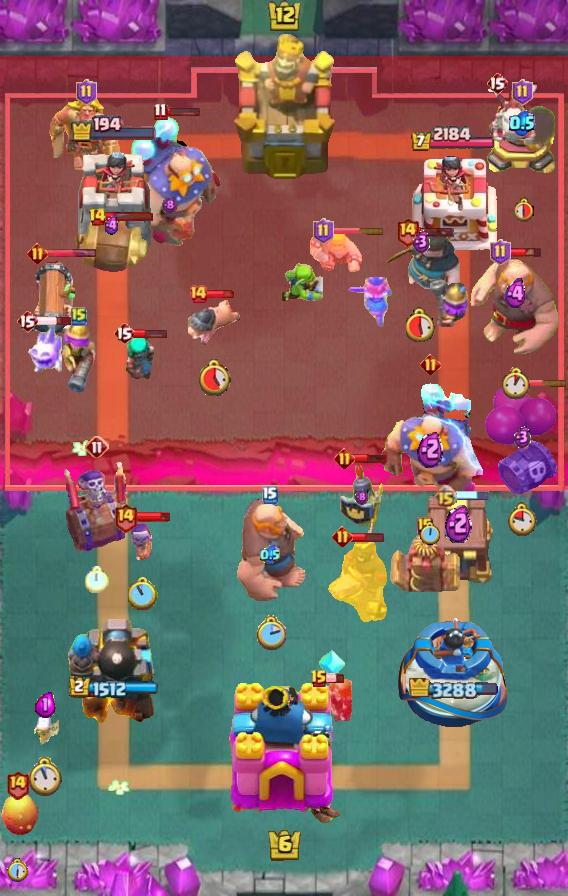archer: (309, 229, 365, 281)
balloon: (469, 257, 563, 357), (233, 495, 307, 603)
battle-healer: (29, 259, 79, 347)
bomb: (418, 492, 498, 586)
bomb-tower: (57, 322, 101, 394), (430, 265, 468, 327)
electro-spirit: (445, 501, 471, 542), (417, 430, 443, 468), (504, 278, 528, 310), (509, 110, 535, 136), (36, 690, 57, 717), (260, 545, 280, 565), (513, 426, 531, 448), (414, 230, 431, 253), (103, 217, 121, 235), (163, 196, 178, 214), (356, 489, 368, 505)
elixir: (196, 358, 232, 396), (28, 757, 62, 797), (500, 367, 532, 400), (406, 307, 436, 341), (255, 615, 285, 649), (128, 577, 158, 610), (508, 502, 536, 536), (85, 566, 109, 593), (510, 197, 533, 223), (6, 858, 28, 882), (419, 522, 440, 546)
emote: (45, 248, 97, 259), (104, 210, 154, 221), (331, 225, 385, 234), (514, 377, 568, 386), (418, 226, 455, 238), (35, 315, 72, 327), (454, 490, 490, 502), (135, 511, 171, 523), (167, 106, 202, 118), (508, 246, 543, 258), (350, 531, 385, 543), (352, 453, 388, 464), (133, 329, 168, 340), (205, 289, 237, 299), (326, 672, 345, 683)
executioner: (188, 298, 240, 348)
freeze: (325, 536, 391, 622)
goblin: (127, 522, 159, 564)
goblin-brawler: (390, 527, 460, 595)
goblin-hut: (48, 93, 124, 175)
heal-spirit: (31, 714, 59, 748)
hog: (0, 793, 40, 837)
hog-rider: (346, 275, 394, 329), (309, 678, 355, 724)
king-tower: (222, 680, 346, 826), (231, 35, 337, 182)
little-prince: (115, 115, 223, 249), (377, 377, 483, 505)
mini-pekka: (482, 82, 542, 148)
mirror: (25, 324, 65, 376)
pad_2: (317, 649, 347, 679)
princess: (336, 463, 386, 547)
queen-tower: (395, 614, 514, 730), (406, 152, 500, 256), (71, 144, 157, 255)
royal-hog: (381, 228, 461, 300)
royal-recruit: (486, 104, 558, 178)
royal-recruit-evolution: (483, 382, 561, 498)
selected: (70, 115, 158, 143), (410, 126, 496, 154), (68, 676, 159, 700), (410, 678, 499, 702)
skeleton-king-bar: (64, 457, 130, 551)
text: (396, 217, 421, 248), (5, 769, 30, 799), (114, 503, 138, 533), (85, 435, 109, 459), (511, 79, 532, 105), (75, 79, 96, 105), (314, 218, 335, 244), (490, 239, 511, 265), (434, 484, 457, 507), (486, 71, 508, 95), (16, 309, 38, 333), (113, 321, 135, 345), (27, 243, 48, 265), (419, 353, 440, 375), (334, 448, 355, 469), (332, 525, 353, 546), (188, 284, 208, 304), (88, 207, 107, 227), (310, 669, 328, 689), (71, 306, 87, 326), (262, 486, 278, 504), (417, 517, 433, 535), (153, 103, 167, 121)
the-log: (72, 220, 152, 274)
tower-bar: (67, 611, 161, 731)
witch: (123, 333, 157, 383)
zap: (279, 259, 327, 304)
